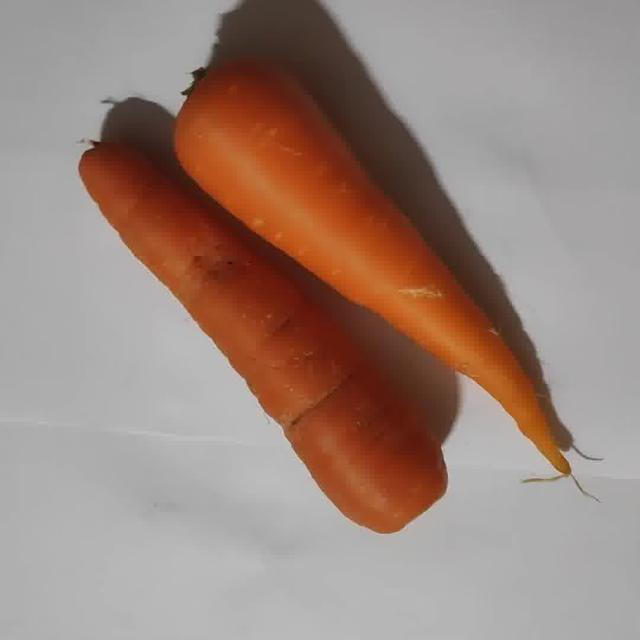Carrot: (179, 66, 569, 474), (80, 138, 450, 529)
